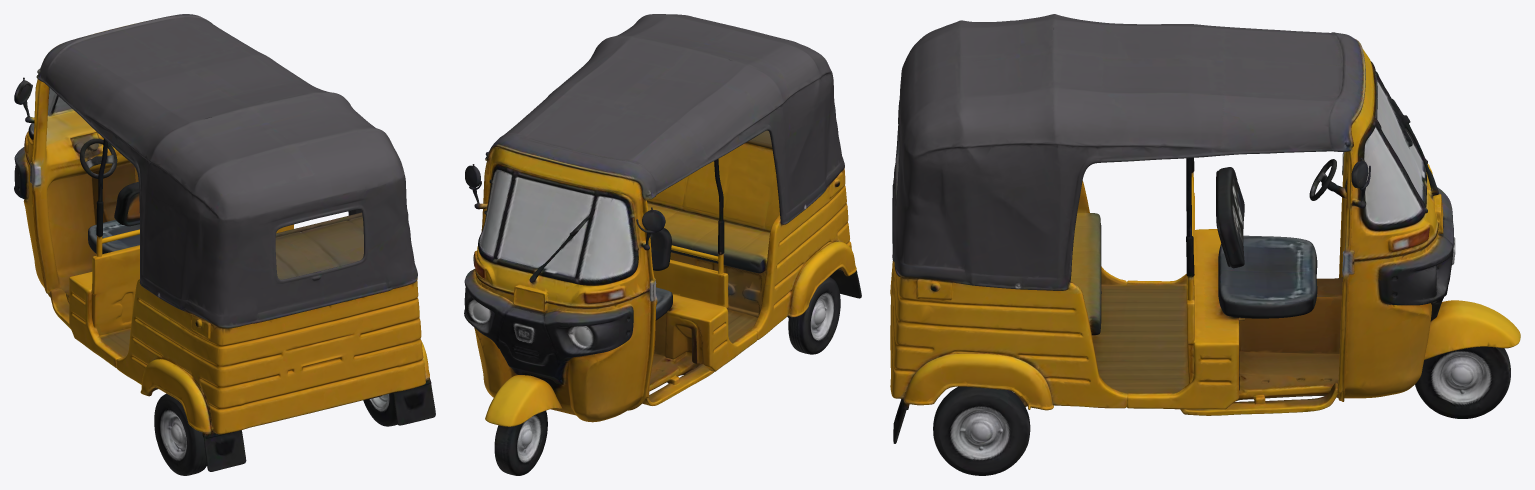
Rendered from sanbengzi.glb.
3 renders of one model, left to right at view 1: azimuth 30°, elevation 25°; view 2: azimuth 150°, elevation 25°; view 3: azimuth 270°, elevation 25°, orthographic. The views are drawn at different scales.
Visible parts, largest first — view 1: Object_14; view 2: Object_14; view 3: Object_14.
Part boxes in pixels (x1,y1,x2,y2): Object_14: [14, 14, 435, 475]; Object_14: [464, 14, 861, 475]; Object_14: [890, 14, 1520, 475].
Bounding box in the file's own units: 1.29 × 1.66 × 2.6.
1 material, 1 textured.
